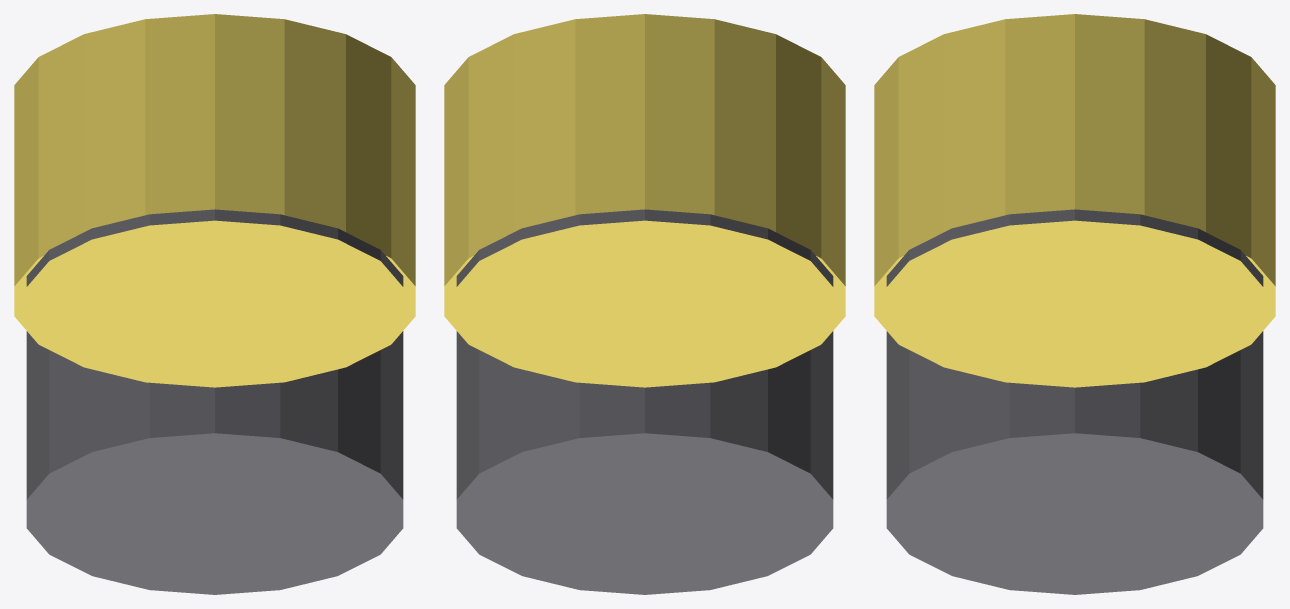
The model's file is led.glb.
3 renders of one model, left to right at view 1: azimuth 30°, elevation 25°; view 2: azimuth 150°, elevation 25°; view 3: azimuth 270°, elevation 25°, orthographic.
Bounding box in the file's own units: 3.3 × 3.7 × 3.25.
